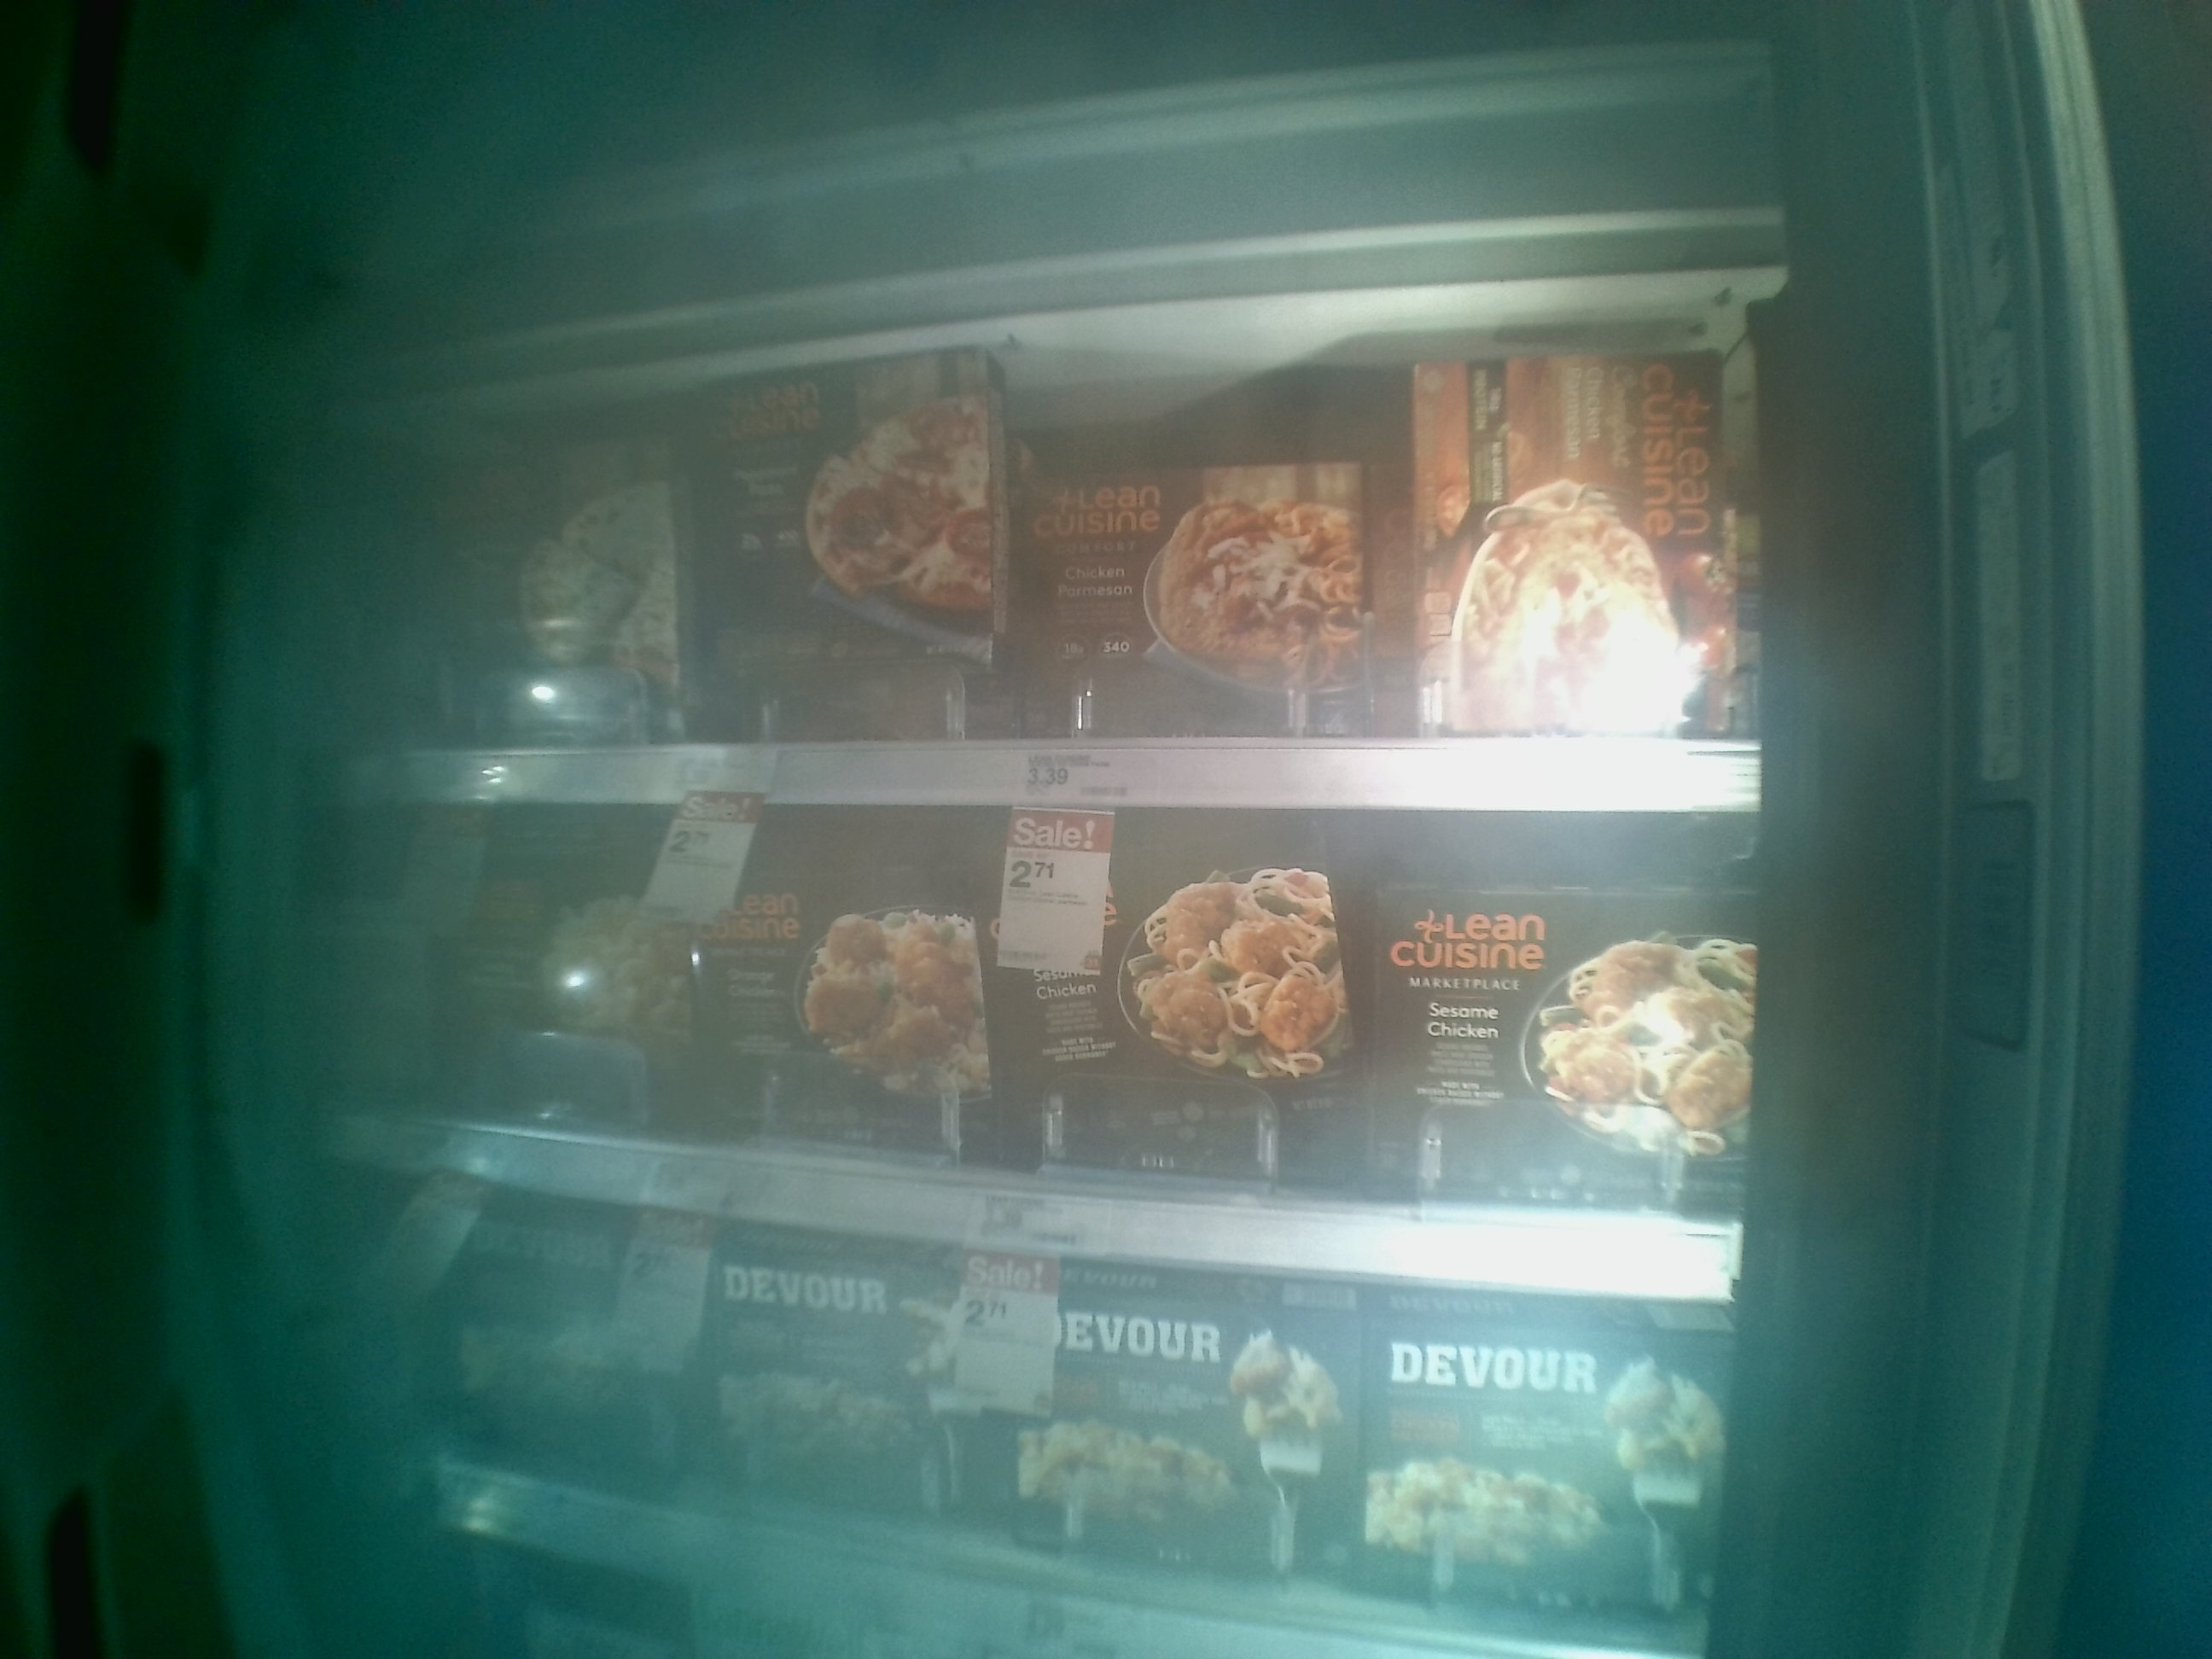shelf: (336, 812, 1750, 1298), (340, 338, 1749, 810)
